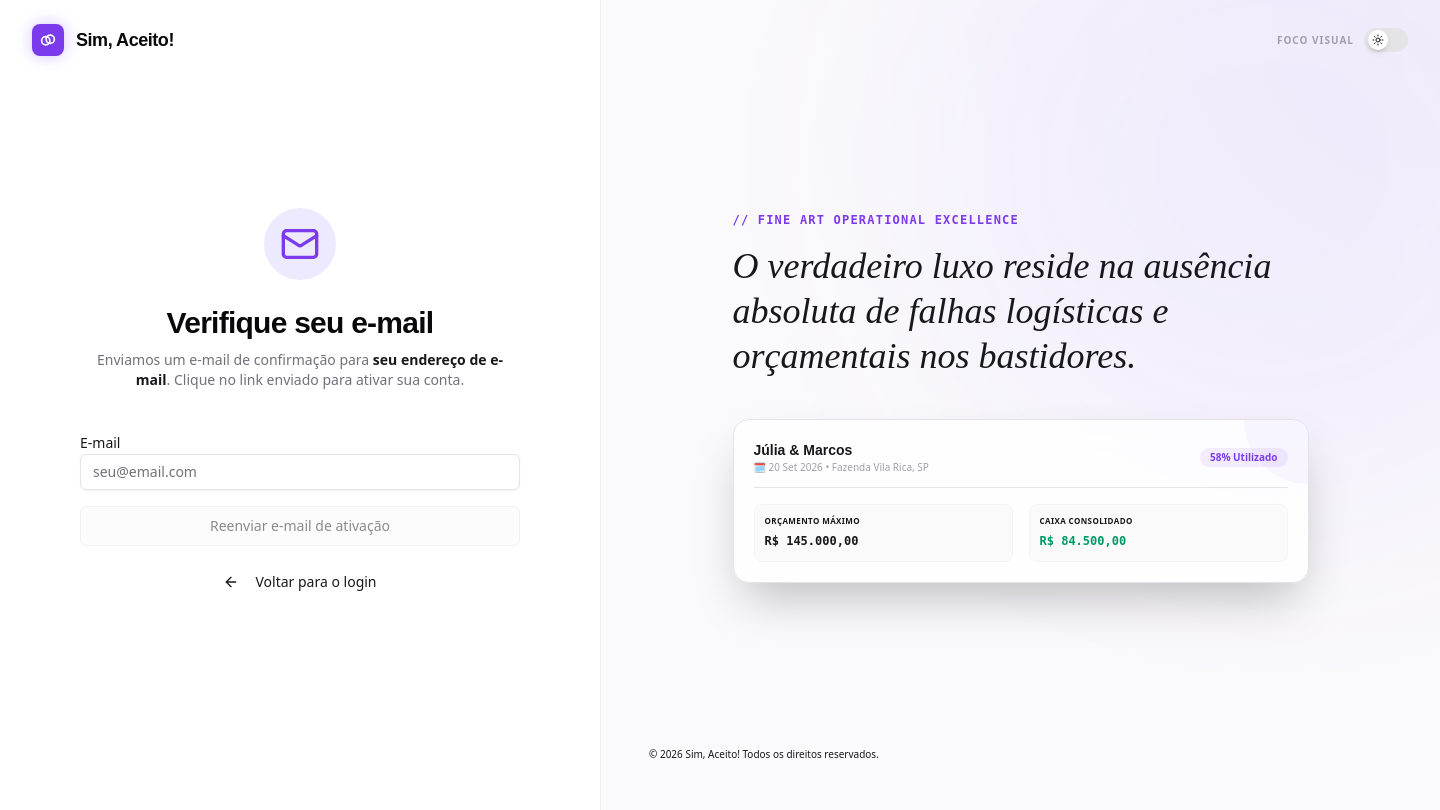
VerifyEmailPendingPage › should allow entering an email after an expired link
Type "test@example.com" into the field labelled "E-mail" at (300, 472), box [80, 454, 520, 490]
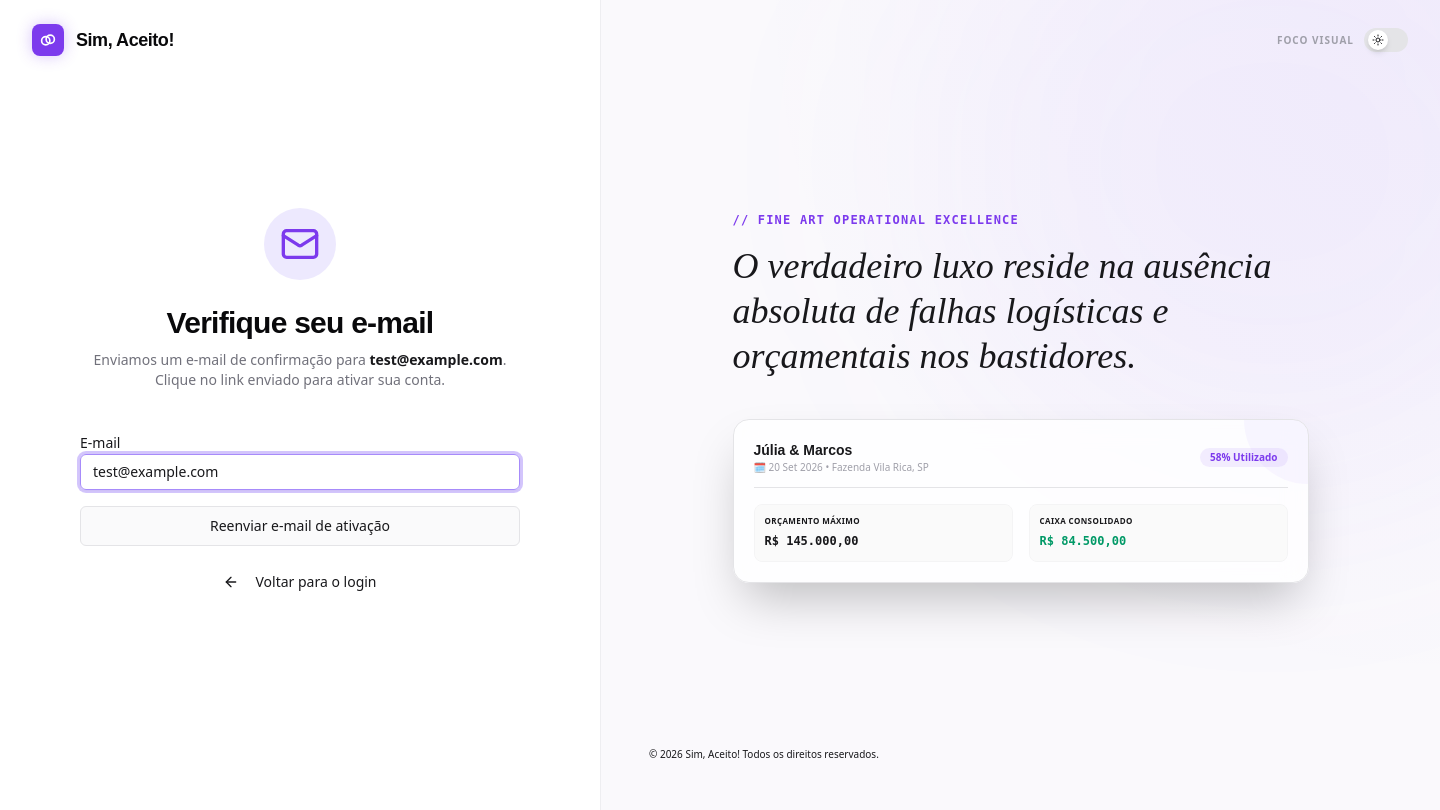
Expected: the button "Reenviar e-mail de ativação" is enabled, [80, 506, 520, 546]
